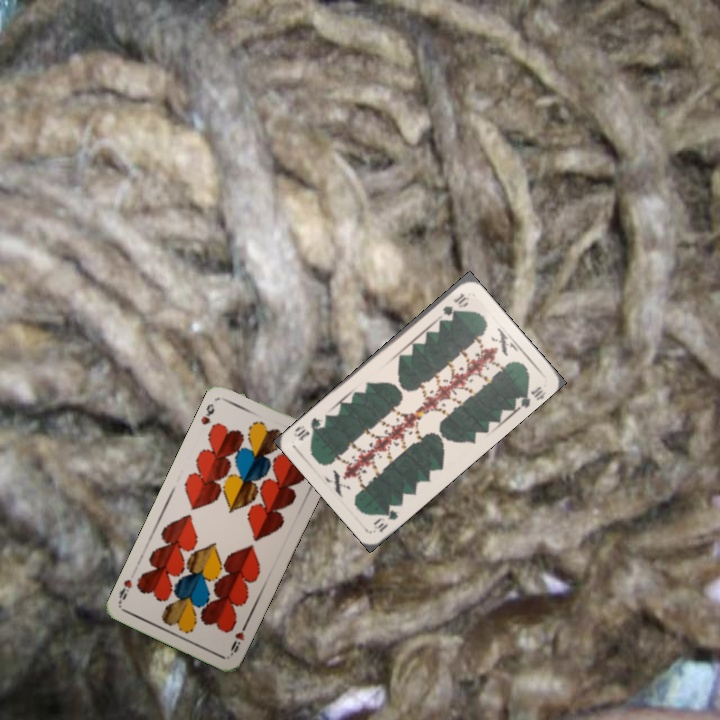G10: (439, 288, 471, 318), (369, 505, 401, 535)
H9: (226, 619, 250, 658), (197, 399, 217, 427)
